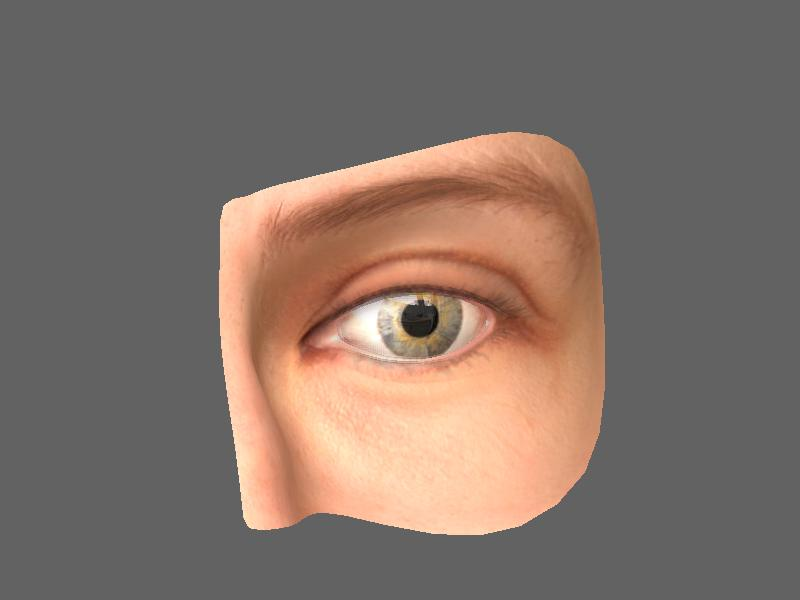iris: (374, 290, 469, 359)
